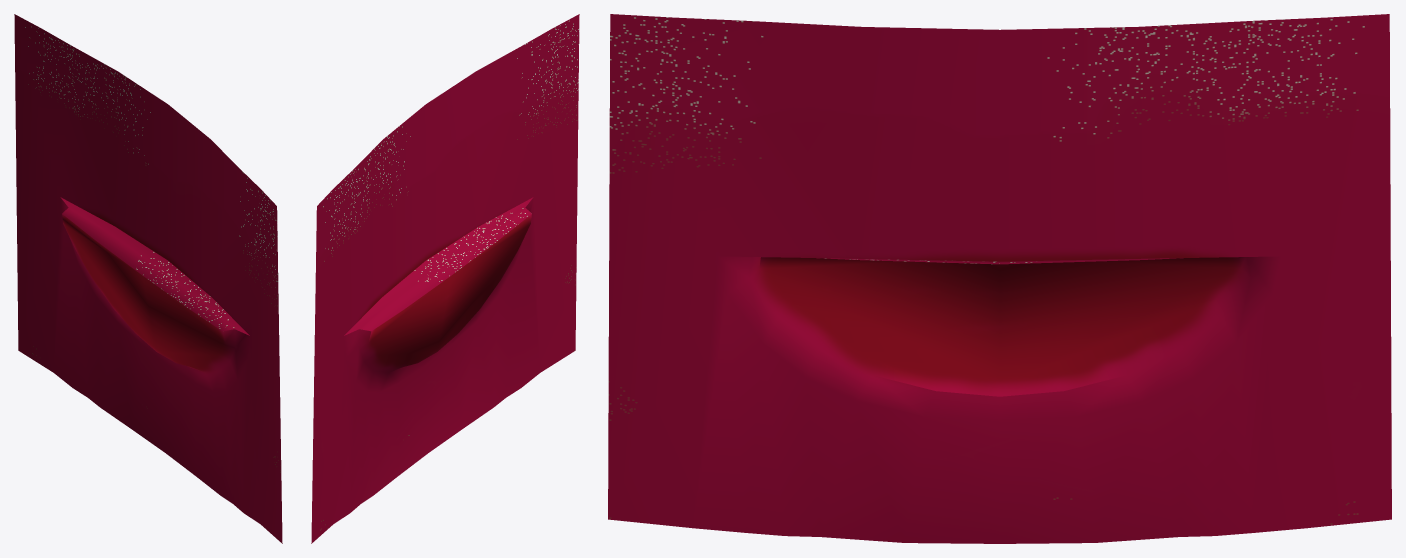
The model's file is facet.glb.
3 views of the same model, side by side, from view 1: azimuth 30°, elevation 25°; view 2: azimuth 150°, elevation 25°; view 3: azimuth 270°, elevation 25° (orthographic). The views are drawn at different scales.
Visible parts, largest first — view 1: skin; view 2: skin; view 3: skin.
Boxes of the visible parts, x1,y1,x2,y2 form: skin: (14,14,282,543); skin: (311,14,579,543); skin: (608,14,1391,543).
Size of the model in its own units: 0.0122 by 0.1469 by 0.2021.
Materials: 1 (1 with a texture image).
